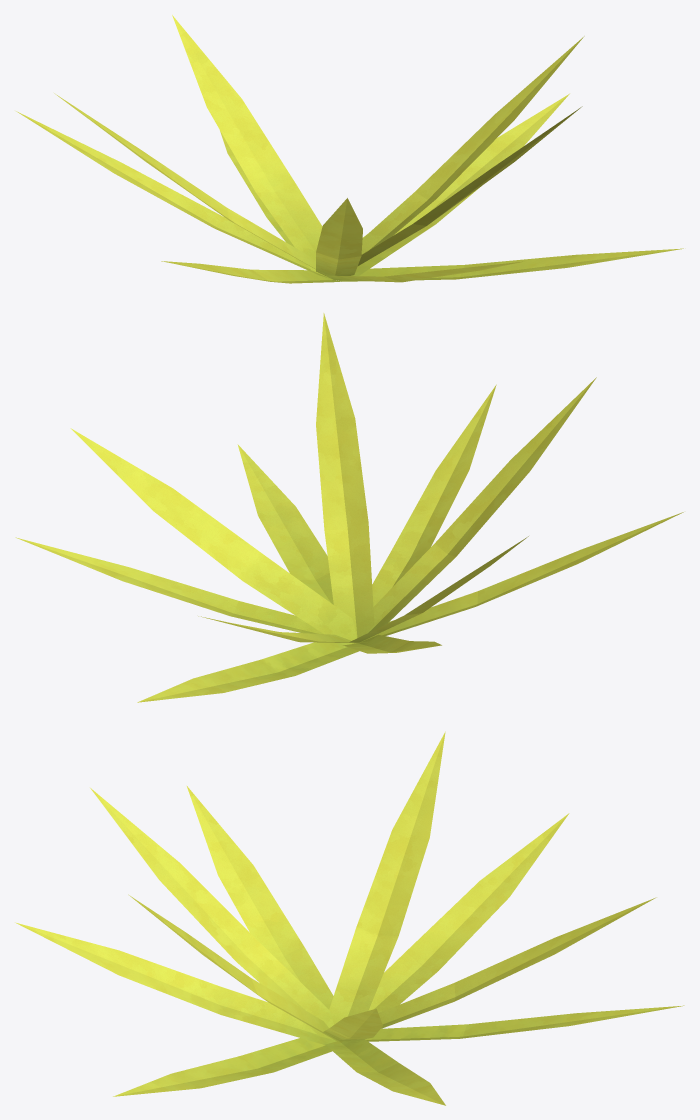
File: SM_Leaf_01.fbx
3 views of the same model, one above another, from view 1: azimuth 30°, elevation 25°; view 2: azimuth 150°, elevation 25°; view 3: azimuth 270°, elevation 25° (orthographic).
Parts seen in each view (by area): view 1: Leaf_007; view 2: Leaf_007; view 3: Leaf_007.
Part boxes in pixels (x1=…): Leaf_007: x1=16, y1=15, x2=683, y2=283; Leaf_007: x1=15, y1=313, x2=683, y2=702; Leaf_007: x1=15, y1=731, x2=684, y2=1105.
Bounding box in the file's own units: 43.67 × 16.84 × 47.63.
